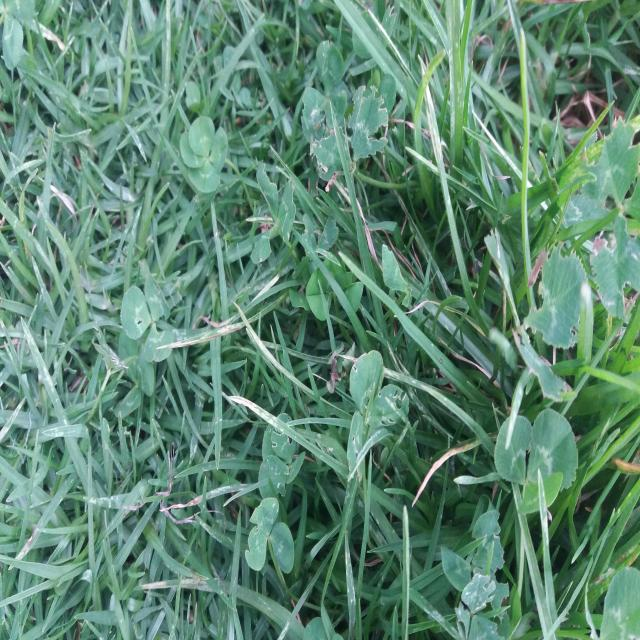Four Leaf Clover: (180, 116, 228, 193)
